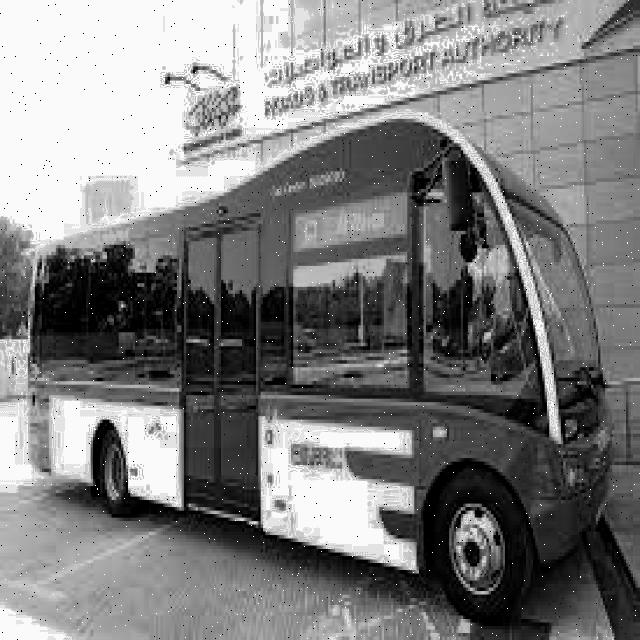Bus: (36, 93, 621, 623)
